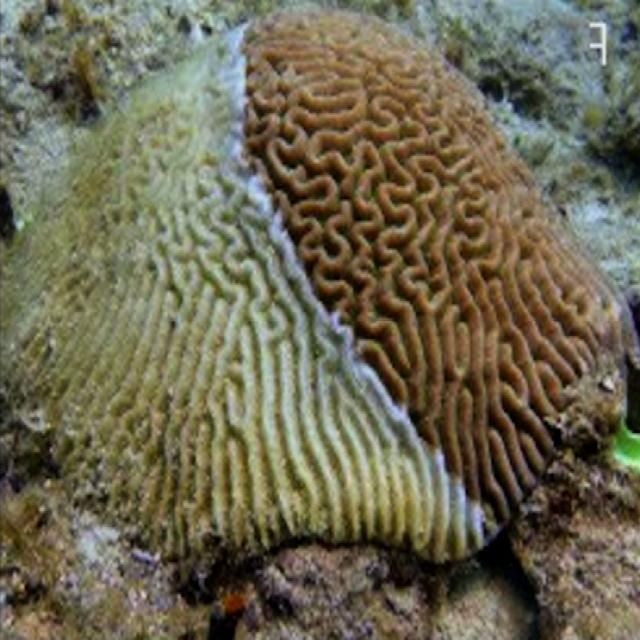Coral: (0, 7, 629, 569)
